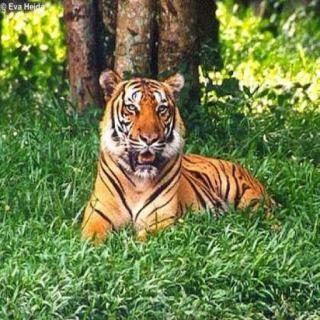Tiger: (78, 62, 278, 249)
